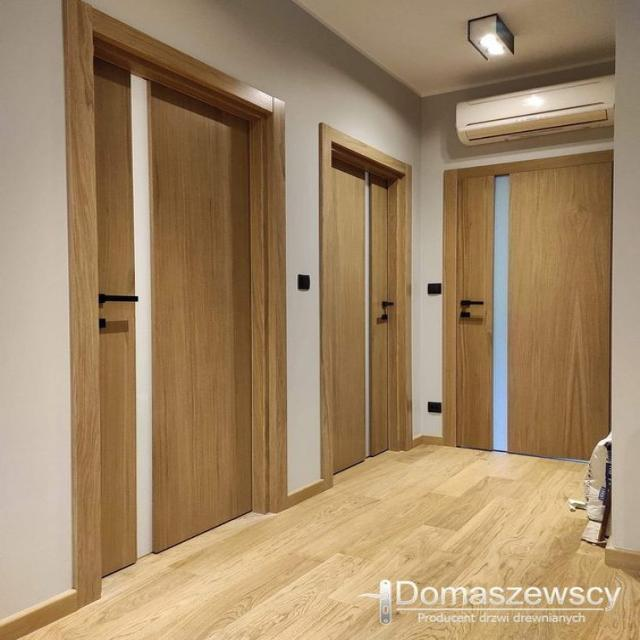door: (87, 41, 265, 562), (445, 171, 612, 458), (318, 133, 412, 478)
